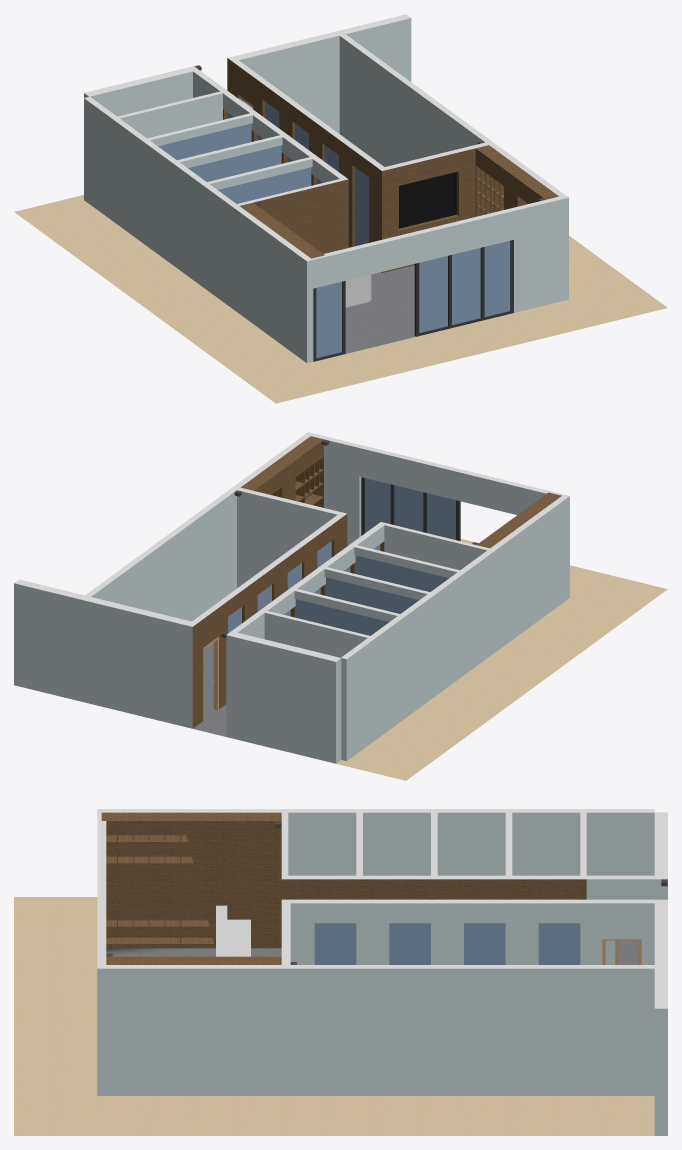
Rendered from ZCPYgltf4.gltf.
The picture shows the model from 3 angles, top to bottom: view 1: azimuth 30°, elevation 25°; view 2: azimuth 150°, elevation 25°; view 3: azimuth 270°, elevation 25°; orthographic projection. The views are drawn at different scales.
Parts seen in each view (by area): view 1: qiangmian.001, shiwaidimian, shineidimian, dianshi, MKboli2, MKboli3, shugui2SY, MKboli4, MKboli1, MKbilizhu1, boloqiang1, boloqiang2 (+6 smaller); view 2: qiangmian.001, shiwaidimian, shugui2SY, boloqiang3, boloqiang1, boloqiang2, shugui2, shineidimian, MKboli3, MKboli2, MKboli4, shugui1 (+2 smaller); view 3: qiangmian.001, shiwaidimian, shugui1, BGSboli1, BGSboli4, shineidimian, BGSboli2, BGSboli3, shugui2SY, qiantai.
Part boxes in pixels (x1,y1,x2,y2): qiangmian.001: (84, 14, 568, 363); shiwaidimian: (14, 195, 667, 403); shineidimian: (345, 265, 415, 353); dianshi: (399, 172, 456, 228); MKboli2: (419, 256, 447, 332); MKboli3: (452, 248, 480, 324); shugui2SY: (475, 145, 558, 203); MKboli4: (484, 240, 510, 316); MKboli1: (316, 281, 341, 357); MKbilizhu1: (414, 239, 513, 336); boloqiang1: (218, 167, 311, 203); boloqiang2: (188, 145, 281, 181); qiangmian.001: (14, 432, 569, 763); shiwaidimian: (336, 539, 667, 780); shugui2SY: (241, 436, 323, 494); boloqiang3: (295, 599, 388, 635); boloqiang1: (355, 555, 448, 591); boloqiang2: (326, 577, 419, 613); shugui2: (270, 455, 323, 507); shineidimian: (193, 643, 226, 736); MKboli3: (394, 485, 423, 531); MKboli2: (427, 493, 455, 539); MKboli4: (365, 478, 390, 532); shugui1: (476, 492, 561, 548); qiangmian.001: (97, 809, 667, 1135); shiwaidimian: (14, 897, 654, 1135); shugui1: (101, 812, 281, 948); BGSboli1: (538, 923, 580, 964); BGSboli4: (314, 923, 356, 964); shineidimian: (106, 940, 638, 964); BGSboli2: (464, 923, 505, 964); BGSboli3: (389, 923, 430, 964); shugui2SY: (106, 956, 281, 964); qiantai: (216, 905, 250, 956).
Size of the model in its own units: 12.88 by 3.2 by 14.9.
17 materials, 6 textured.
